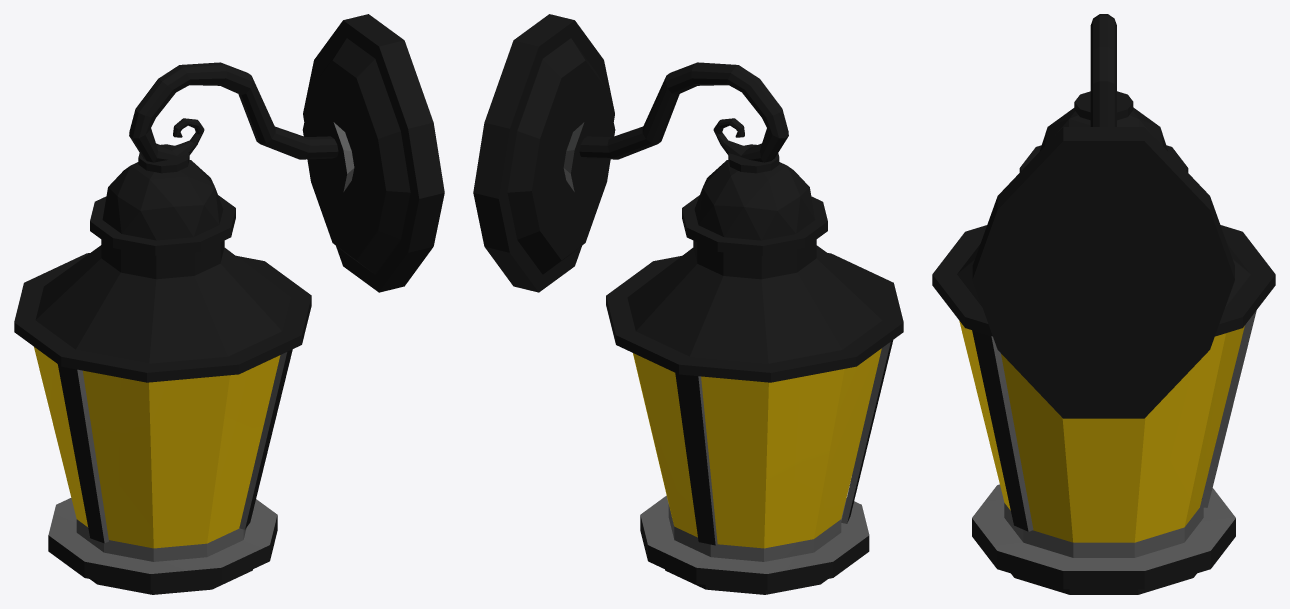
The model's file is duvar lambası.fbx.
The picture shows the model from 3 angles, left to right: view 1: azimuth 30°, elevation 25°; view 2: azimuth 150°, elevation 25°; view 3: azimuth 270°, elevation 25°; orthographic projection. The views are drawn at different scales.
Visible parts, largest first — view 1: Icosphere; view 2: Icosphere; view 3: Icosphere.
Boxes of the visible parts, <box> form: Icosphere: <box>14,14,444,594</box>; Icosphere: <box>473,14,903,594</box>; Icosphere: <box>932,14,1275,594</box>.
Size of the model in its own units: 33.36 by 45.14 by 25.2.
Materials: 1 (1 with a texture image).
